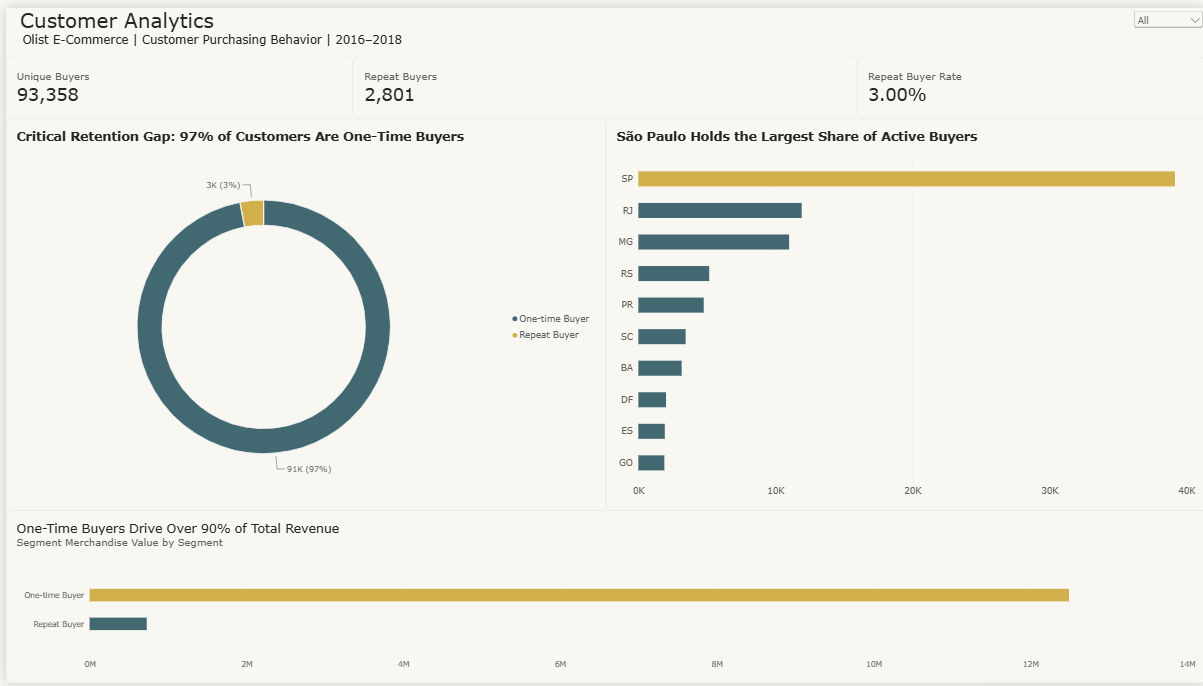

Layout of this report page (visuals, bound fields, positions):
{"tool":"powerbi","page":{"name":"Customer Analytics","canvas":[1920,1080],"ordinal":2},"visuals":[{"type":"textbox","box":[0,0,1920,78],"z":0},{"type":"cardVisual","fields":{"Data":["Orders.Unique Buyers"]},"box":[0,78.2,555.7,98.8],"z":1000},{"type":"cardVisual","fields":{"Data":["Orders.Repeat Buyer Rate"]},"box":[1362.6,78.2,557.8,98.8],"z":2000},{"type":"cardVisual","fields":{"Data":["Orders.Repeat Buyers"]},"box":[555.7,78.2,806.9,98.8],"z":3000},{"type":"donutChart","title":"Critical Retention Gap: 97% of Customers Are One-Time Buyers","fields":{"Category":["Buyer Segments.Segment"],"Y":["Orders.Segment Buyer Count"]},"box":[0,178,960,626],"z":4000},{"type":"slicer","fields":{"Values":["Orders.purchase_year"]},"box":[1800,0,120.4,77.6],"z":5000},{"type":"clusteredBarChart","title":"São Paulo Holds the Largest Share of Active Buyers","fields":{"Category":["Orders.customer_state"],"Y":["Orders.Unique Buyers"]},"box":[960,178,960,626],"z":6000},{"type":"clusteredBarChart","title":"One-Time Buyers Drive Over 90% of Total Revenue","fields":{"Category":["Buyer Segments.Segment"],"Y":["Buyer Segments.Segment Merchandise Value"]},"box":[0,804,1920,276],"z":7000}]}

Visuals, with their boxes in screenshot pixels (x1, y1, x2, y2), scaled from the page's 1920x1080 canvas onto the 1203x686 screenshot:
textbox: locate(0, 0, 1202, 50)
cardVisual - Orders.Unique Buyers: locate(0, 50, 348, 112)
cardVisual - Orders.Repeat Buyer Rate: locate(854, 50, 1202, 112)
cardVisual - Orders.Repeat Buyers: locate(348, 50, 854, 112)
"Critical Retention Gap: 97% of Customers Are One-Time Buyers" donutChart: locate(0, 113, 602, 511)
slicer - Orders.purchase_year: locate(1128, 0, 1202, 49)
"São Paulo Holds the Largest Share of Active Buyers" clusteredBarChart: locate(602, 113, 1202, 511)
"One-Time Buyers Drive Over 90% of Total Revenue" clusteredBarChart: locate(0, 511, 1202, 685)
